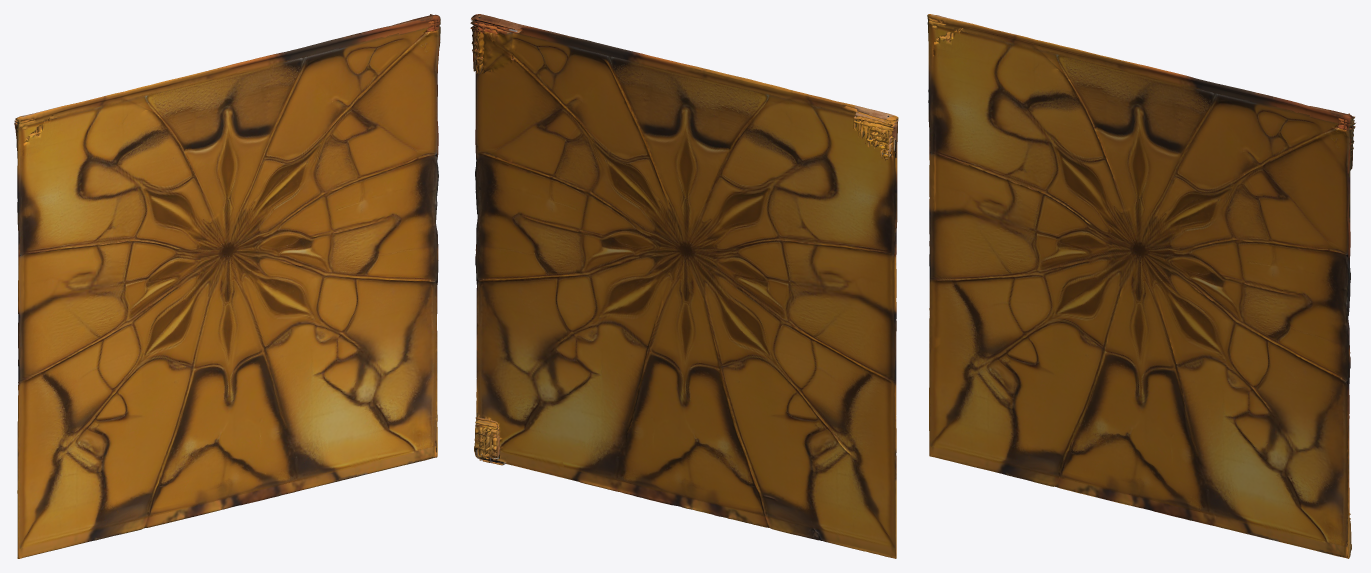
File: Meshy_AI_a_flat_ice_tile_at_a_1115233027_texture.glb
The picture shows the model from 3 angles, left to right: view 1: azimuth 30°, elevation 25°; view 2: azimuth 150°, elevation 25°; view 3: azimuth 330°, elevation 25°; orthographic projection.
Bounding box in the file's own units: 2 × 2 × 0.0474.
Materials: 1 (1 with a texture image).
